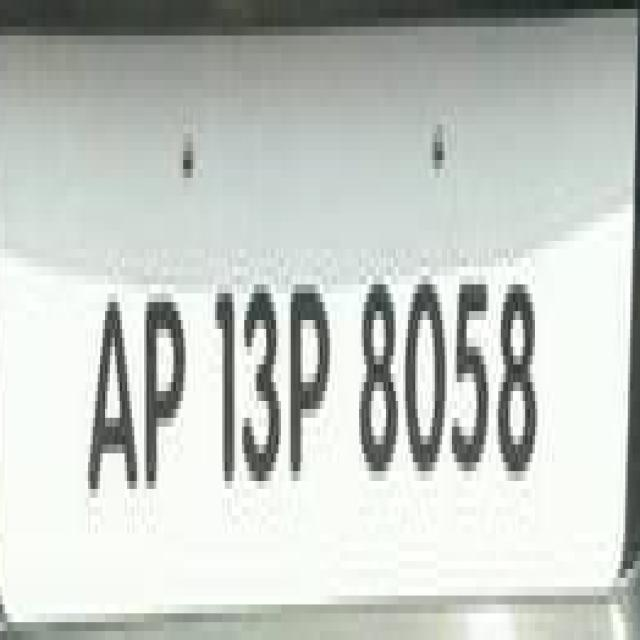license_plate: (34, 36, 635, 622)
